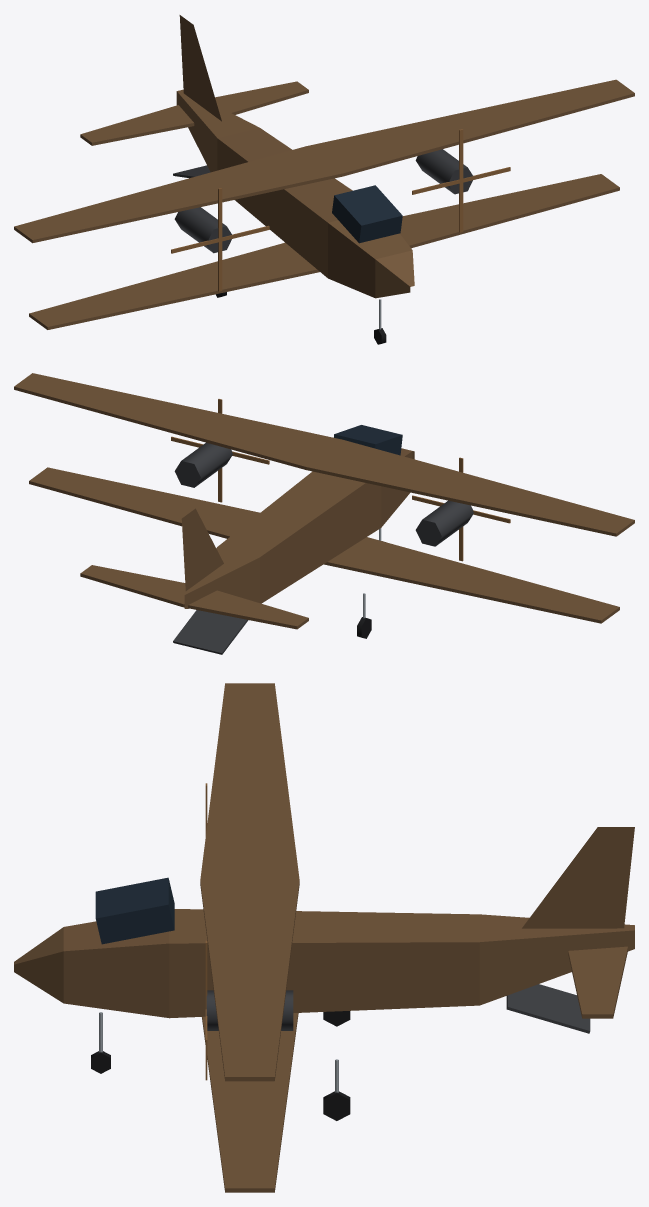
Rendered from veh_air_transport_plane_a05_lod2.glb.
The picture shows the model from 3 angles, top to bottom: view 1: azimuth 30°, elevation 25°; view 2: azimuth 150°, elevation 25°; view 3: azimuth 270°, elevation 25°; orthographic projection. The views are drawn at different scales.
Parts seen in each view (by area): view 1: body, propeller_1, propeller_0; view 2: body, ramp, propeller_0, propeller_1; view 3: body, ramp, gear_2.
Boxes of the visible parts, x1,y1,x2,y2 form: body: (14,15,634,329); propeller_1: (412,129,510,232); propeller_0: (171,188,269,291); body: (14,373,634,629); ramp: (173,610,248,654); propeller_0: (412,457,510,561); propeller_1: (171,399,269,502); body: (14,683,634,1192); ramp: (506,984,590,1033); gear_2: (323,1059,350,1120).
Size of the model in its own units: 24 by 7 by 16.
